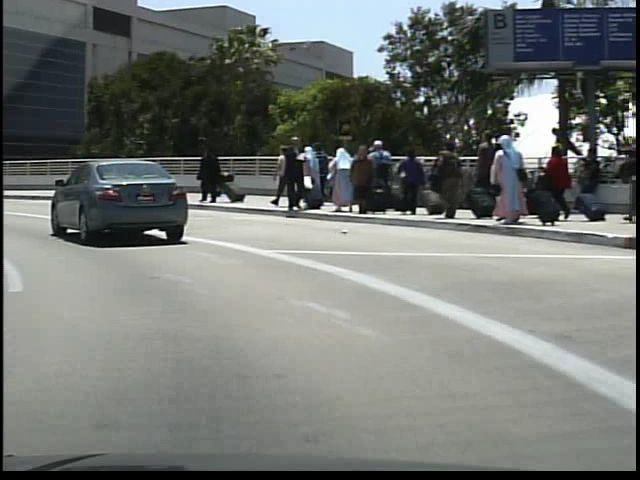person: (610, 137, 638, 224), (275, 135, 304, 212), (266, 143, 292, 212), (194, 146, 220, 204), (204, 153, 224, 199)
